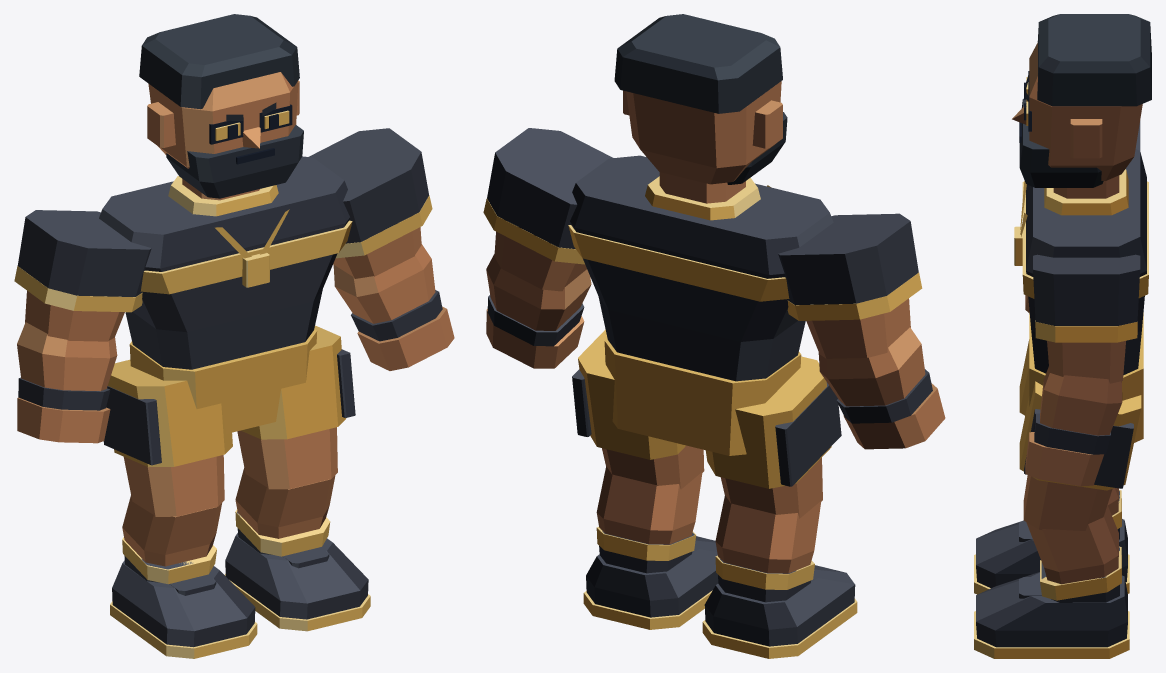
Rendered from titan-preview.glb.
3 views of the same model, side by side, from view 1: azimuth 30°, elevation 25°; view 2: azimuth 150°, elevation 25°; view 3: azimuth 270°, elevation 25° (orthographic). The views are drawn at different scales.
Visible parts, largest first — view 1: Jersey, BuzzCut, Sleeve.R, Sleeve.L, ShortsWaist, Boot.L, Boot.R, Head, Shorts.R, Shorts.L, Beard, Forearm.R (+23 smaller); view 2: Jersey, BuzzCut, ShortsWaist, Sleeve.R, Sleeve.L, Head, Boot.R, Boot.L, Shorts.R, Calf.L, Calf.R, ChestBand (+25 smaller); view 3: BuzzCut, Jersey, Boot.L, Sleeve.L, Head, Calf.L, Forearm.L, Thigh.L, Boot.R, UpperArm.L, Hand.L, Beard (+16 smaller).
Part boxes in pixels (x1,y1,x2,y2): Jersey: (99,156,349,369); BuzzCut: (139,14,299,109); Sleeve.R: (17,210,151,296); Sleeve.L: (309,128,428,243); ShortsWaist: (129,329,317,433); Boot.L: (225,533,368,619); Boot.R: (112,560,255,647); Head: (148,72,298,168); Shorts.R: (107,359,232,467); Shorts.L: (241,325,346,439); Beard: (166,125,303,198); Forearm.R: (17,322,117,391); Jersey: (570,155,833,381); BuzzCut: (614,14,782,113); ShortsWaist: (604,338,801,455); Sleeve.R: (778,213,918,305); Sleeve.L: (487,128,612,248); Head: (626,81,781,184); Boot.R: (704,565,855,646); Boot.L: (586,536,718,617); Shorts.R: (705,356,831,488); Calf.L: (596,466,702,544); Calf.R: (715,495,821,573); ChestBand: (568,225,789,301); BuzzCut: (1037,14,1151,106); Jersey: (1026,149,1146,375); Boot.L: (976,572,1127,647); Sleeve.L: (1033,254,1140,325); Head: (1029,42,1142,180); Calf.L: (1026,505,1118,584); Forearm.L: (1040,366,1122,435); Thigh.L: (1023,475,1112,530); Boot.R: (976,519,1127,588); UpperArm.L: (1047,340,1125,383); Hand.L: (1025,432,1103,486); Beard: (1019,98,1103,187).
Bounding box in the file's own units: 1.69 × 2.15 × 0.6062.
